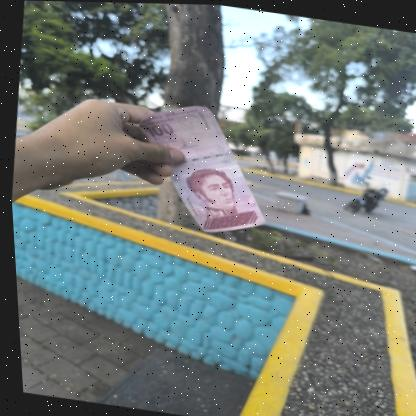one_hundred-front-vef: (121, 94, 276, 240)
